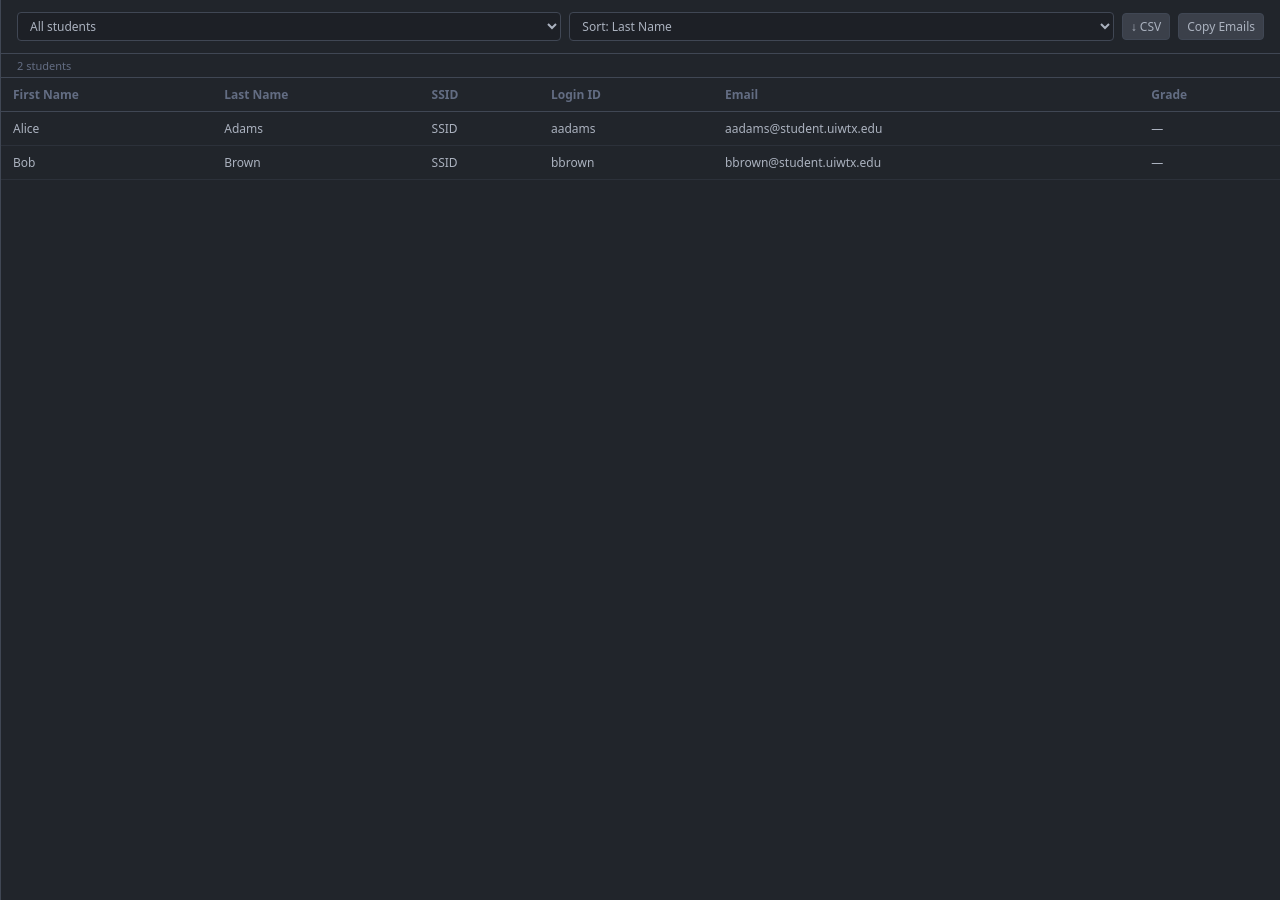
Test: StudentList › filters to active students
Select "Active" in the dropdown named "Filter" at (289, 26), box left=17, top=12, right=561, bottom=41
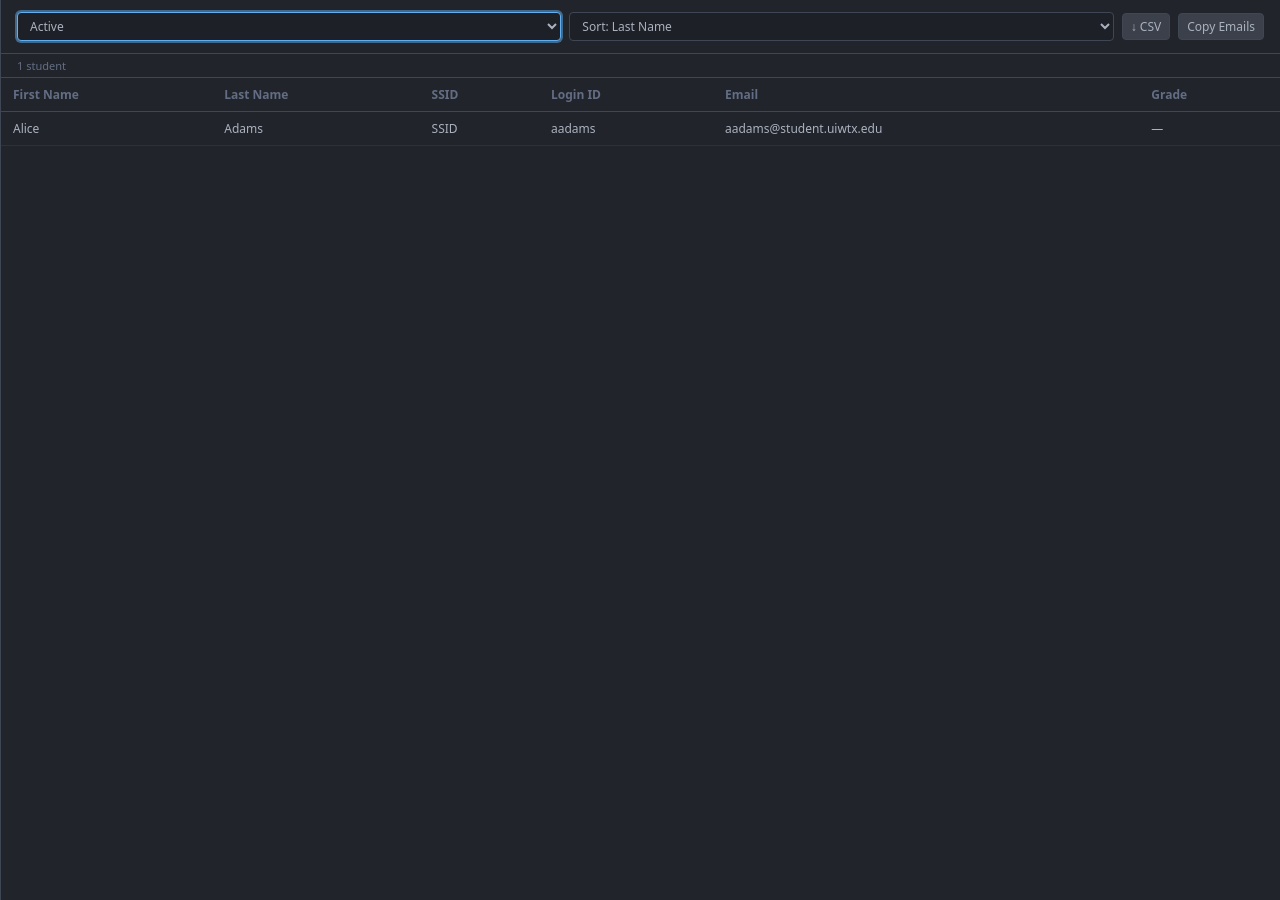
expect the text "Alice" is shown: met, box left=1, top=112, right=212, bottom=146
expect the text "Bob" is gone: met
